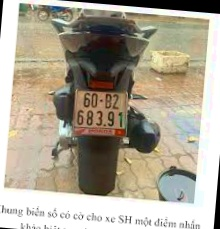Bien-so: (69, 87, 123, 130)
